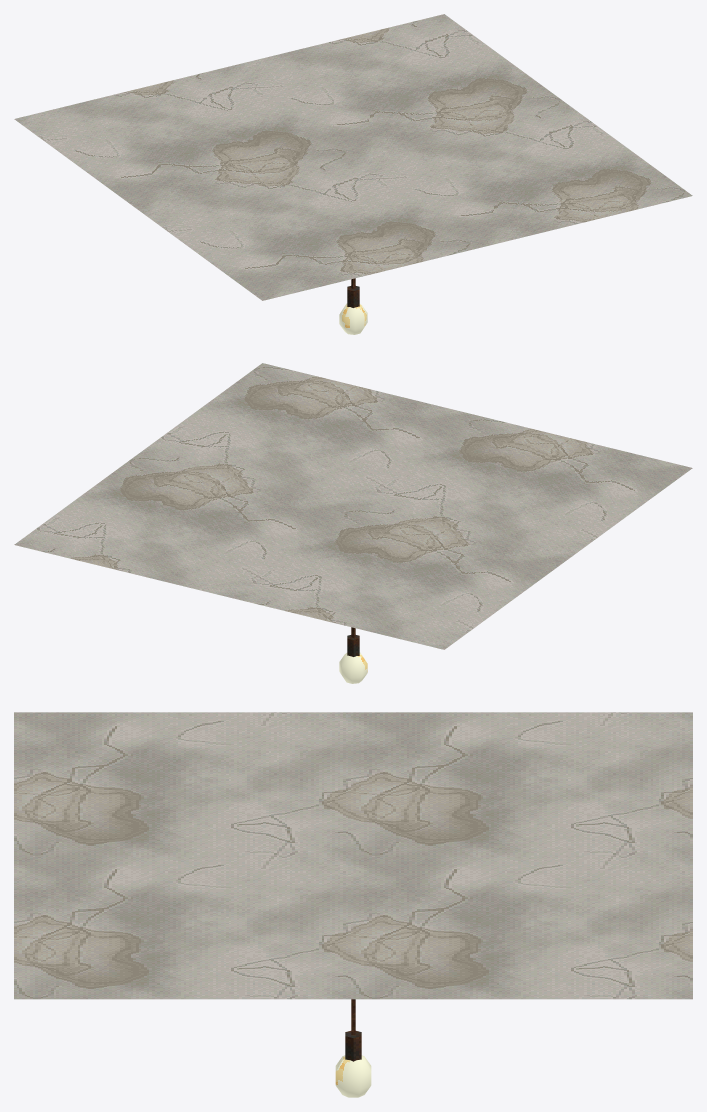
File: house_ceiling_light.glb
3 views of the same model, one above another, from view 1: azimuth 30°, elevation 25°; view 2: azimuth 150°, elevation 25°; view 3: azimuth 270°, elevation 25° (orthographic). The views are drawn at different scales.
Visible parts, largest first — view 1: house_ceiling_light; view 2: house_ceiling_light; view 3: house_ceiling_light.
Boxes of the visible parts, bbox=[...] form: house_ceiling_light: bbox=[14, 14, 692, 334]; house_ceiling_light: bbox=[14, 363, 692, 683]; house_ceiling_light: bbox=[14, 712, 692, 1097].
Bounding box in the file's own units: 2 × 0.785 × 2.
Materials: 4 (4 with a texture image).
